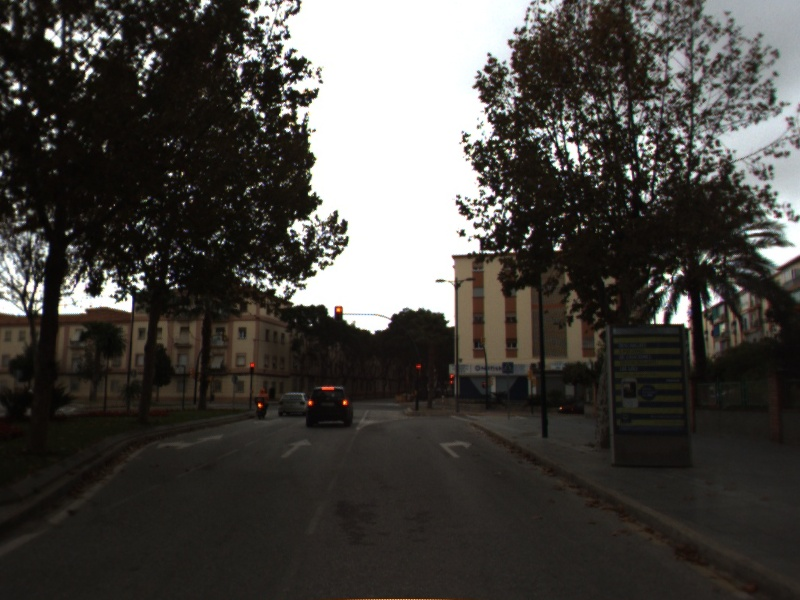RIGHT: (436, 437, 475, 460)
STRAIGHT: (278, 436, 314, 460)
STRAIGHT_LEFT: (153, 431, 227, 452)
